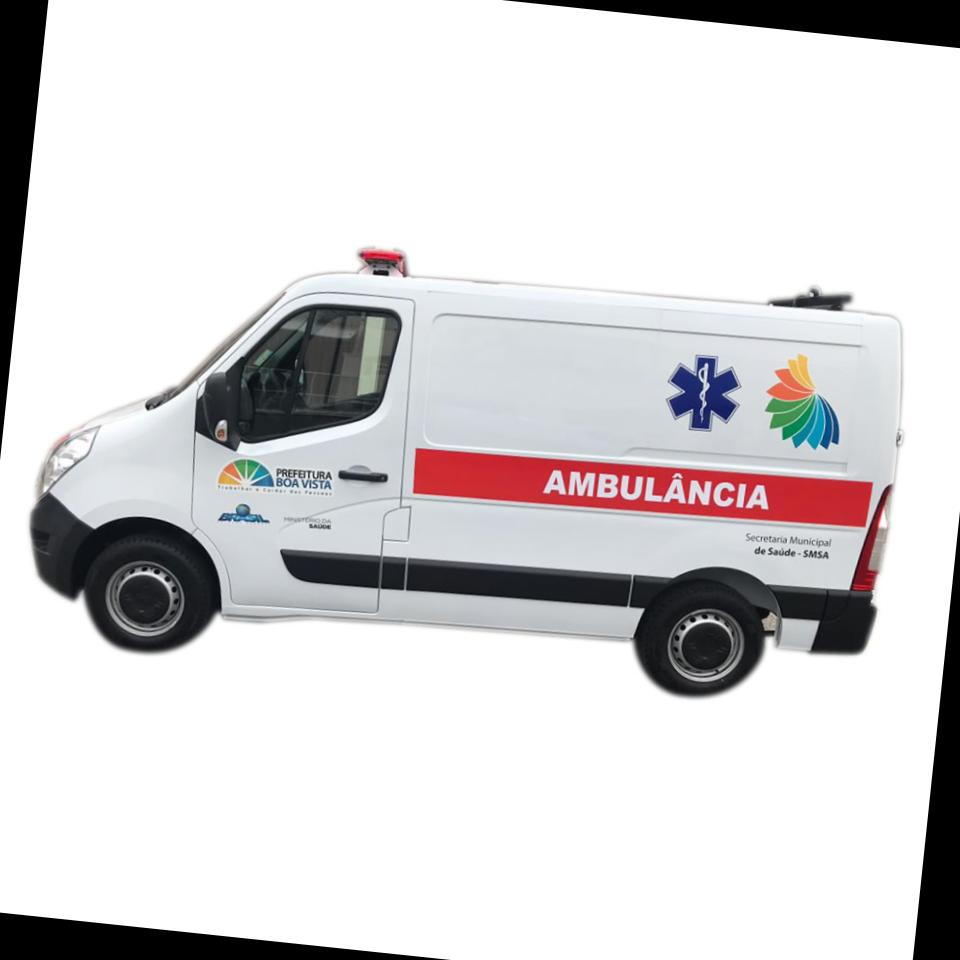bombeiro: (11, 198, 923, 728)
